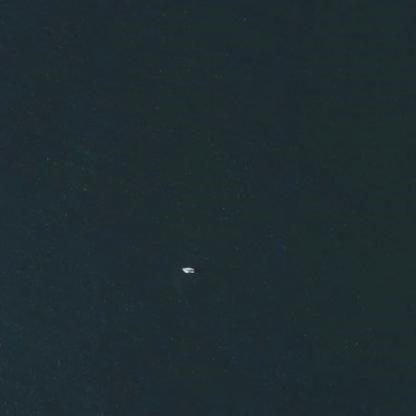ship: (176, 259, 202, 277)
